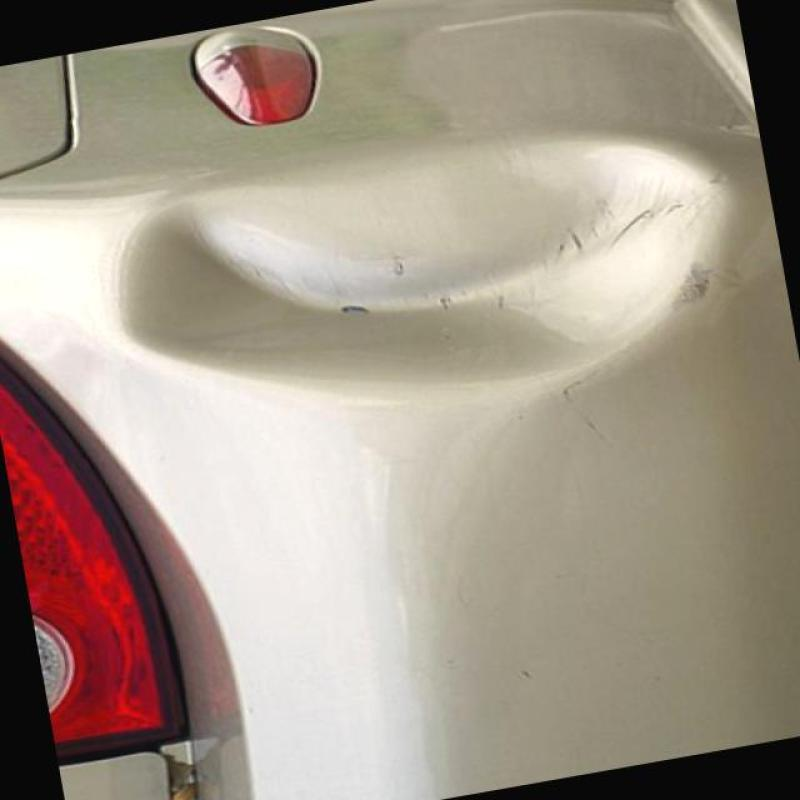Dent: (93, 185, 748, 410)
